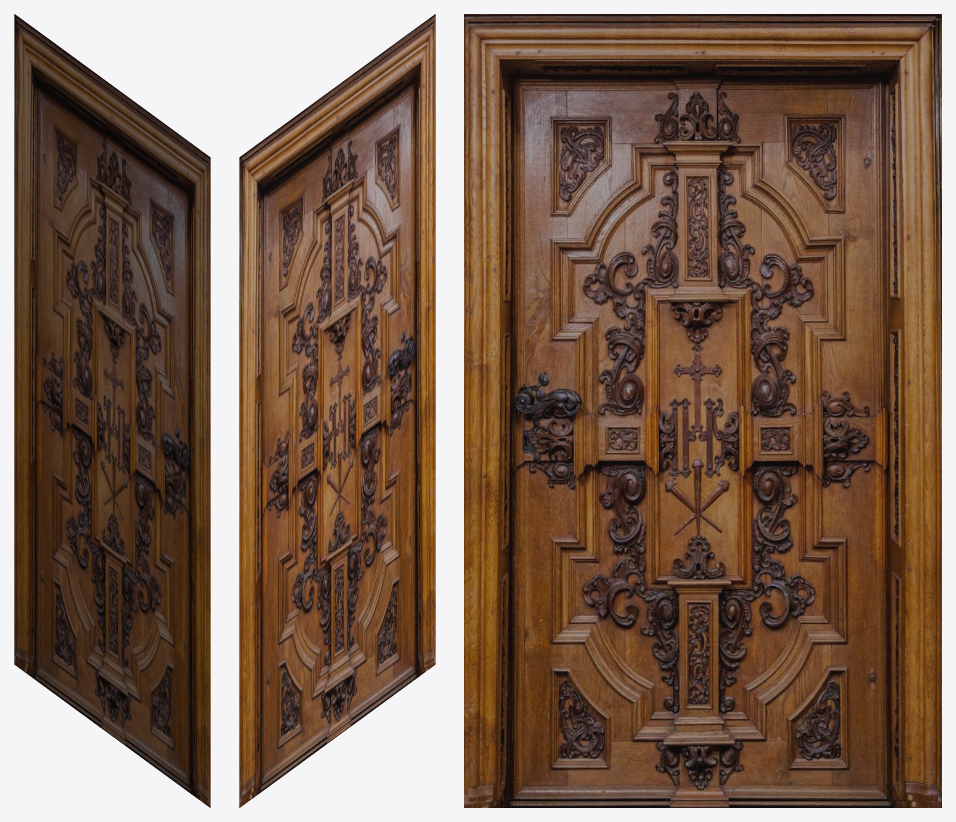
Rendered from 44 - skrzydło drzwi w portalu z prezbiterium do zakrystii.glb.
The picture shows the model from 3 angles, left to right: view 1: azimuth 30°, elevation 25°; view 2: azimuth 150°, elevation 25°; view 3: azimuth 270°, elevation 25°; orthographic projection. The views are drawn at different scales.
Parts seen in each view (by area): view 1: Plane; view 2: Plane; view 3: Plane.
Boxes of the visible parts, x1,y1,x2,y2 form: Plane: (14,14,210,807); Plane: (239,14,435,807); Plane: (464,14,941,807).
Size of the model in its own units: 0.0246 by 22 by 12.
1 material, 1 textured.
